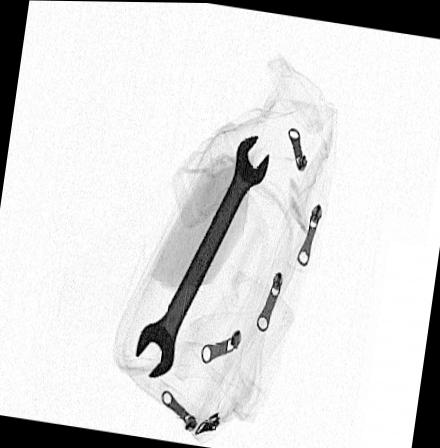Wrench: (135, 136, 269, 378)
